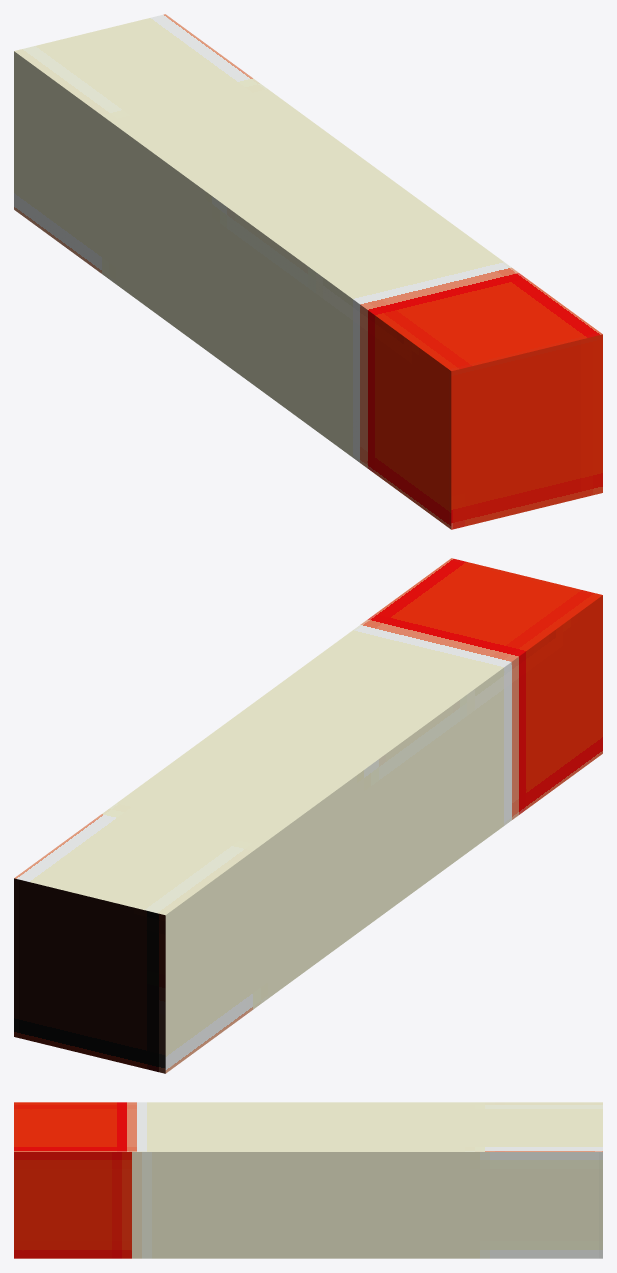
Rendered from RocketSmall_01.FBX.
The picture shows the model from 3 angles, top to bottom: view 1: azimuth 30°, elevation 25°; view 2: azimuth 150°, elevation 25°; view 3: azimuth 270°, elevation 25°; orthographic projection. The views are drawn at different scales.
Visible parts, largest first — view 1: RocketSmall_01; view 2: RocketSmall_01; view 3: RocketSmall_01.
Part boxes in pixels (x1,y1,x2,y2): RocketSmall_01: [14, 14, 602, 529]; RocketSmall_01: [14, 558, 602, 1073]; RocketSmall_01: [14, 1102, 602, 1258].
Size of the model in its own units: 10 by 10 by 50.
